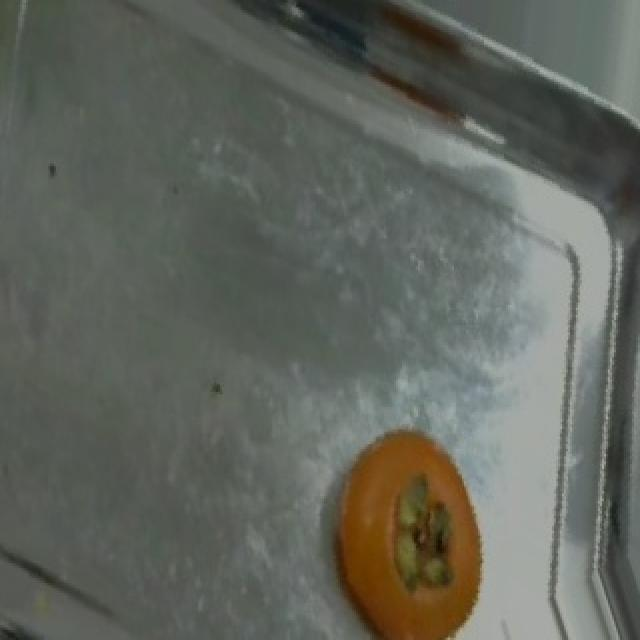Fruit: (314, 407, 502, 640)
